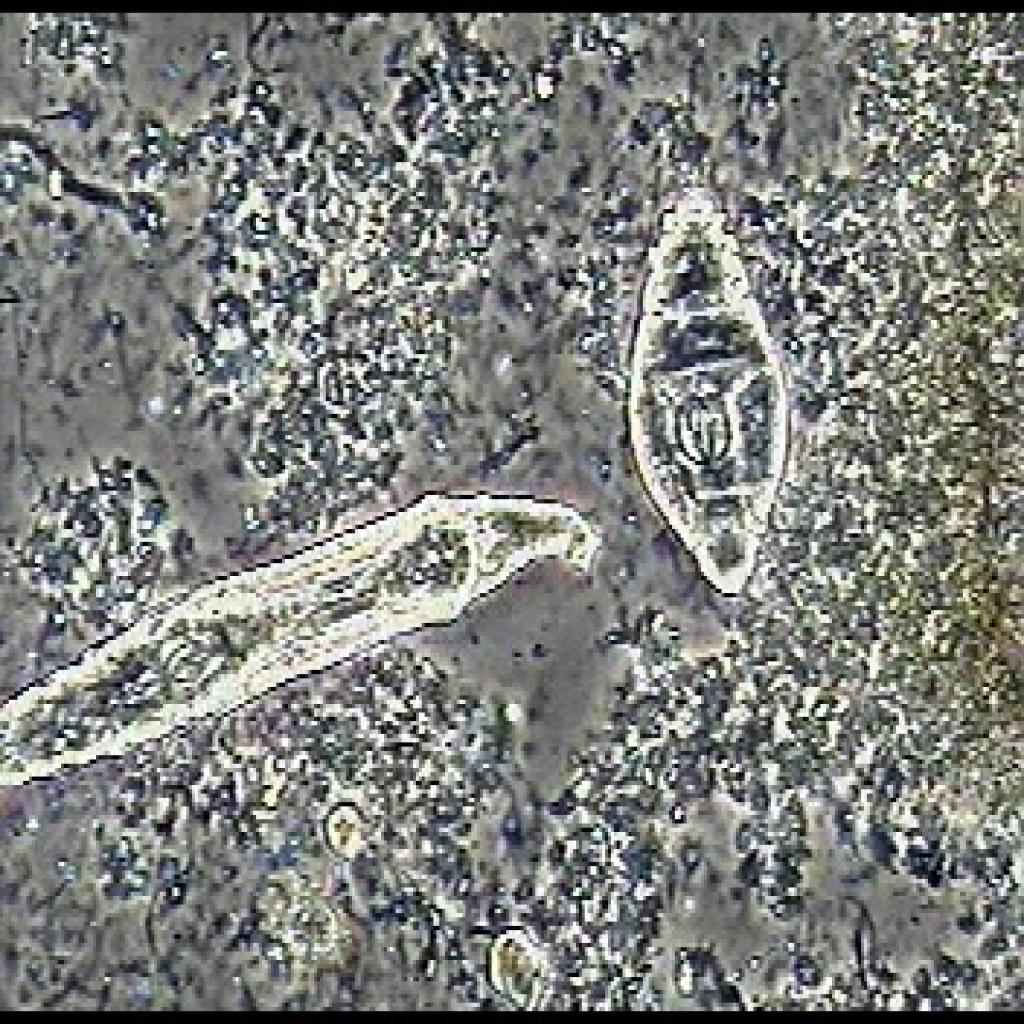Rotatoria: (0, 461, 605, 823), (612, 154, 802, 623)
